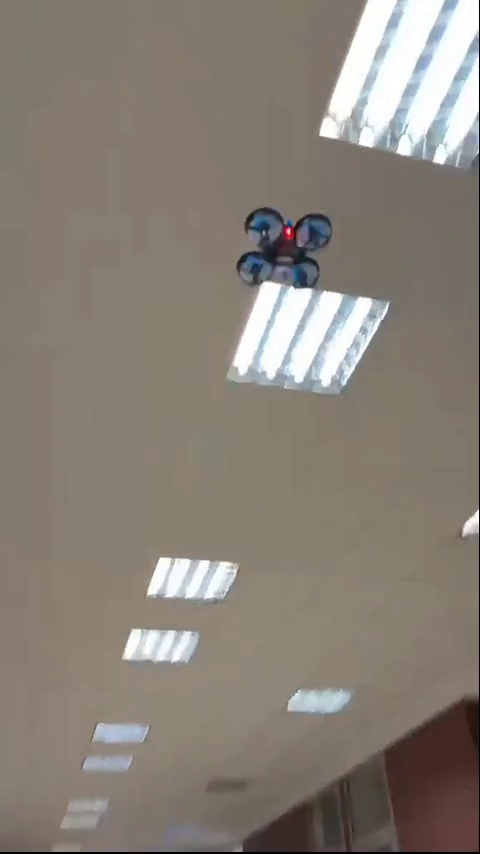drone: (243, 209, 325, 291)
